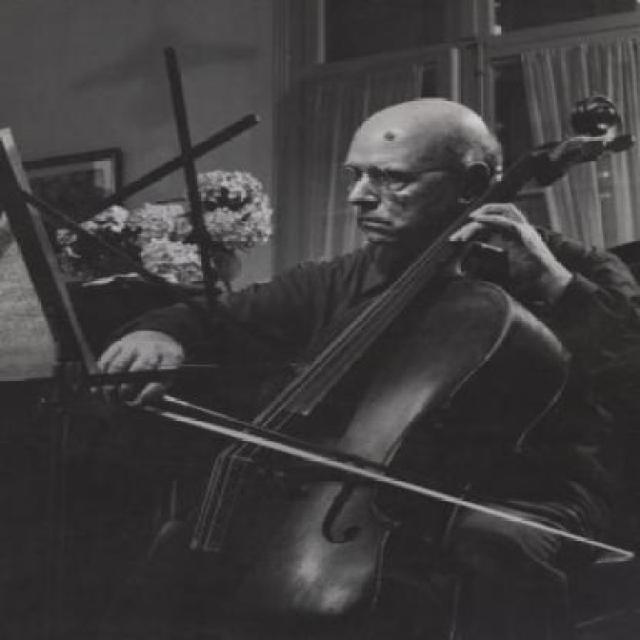Person: (90, 96, 638, 638)
